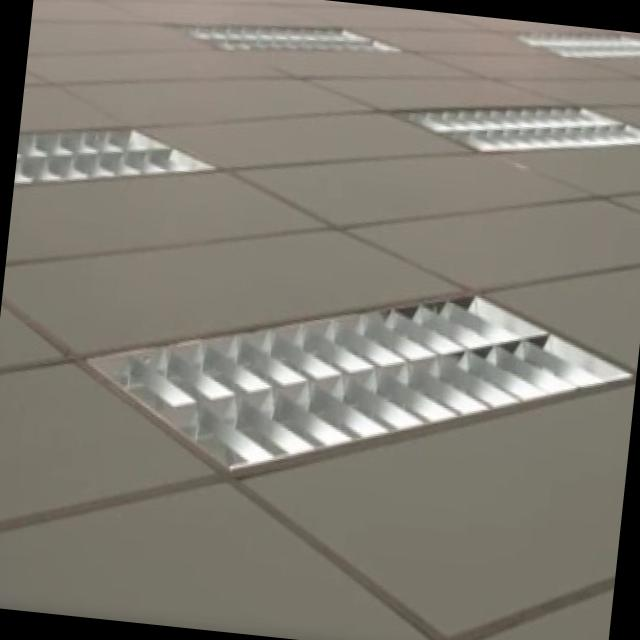light: (85, 293, 634, 479), (10, 123, 227, 190), (381, 101, 639, 152), (164, 24, 407, 59)
